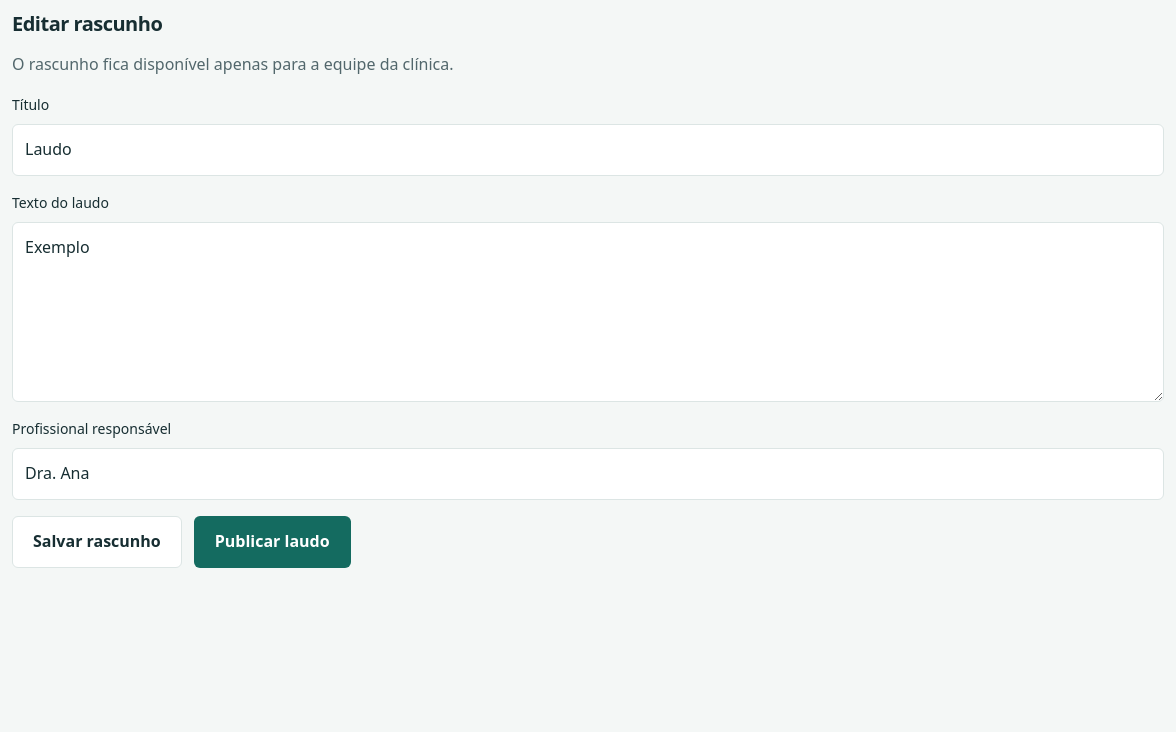
Test case: requires saving changes and confirmation before publishing
The width and height of the screenshot is (1176, 732).
Click the button "Publicar laudo" at (272, 542), box [194,516,351,568]
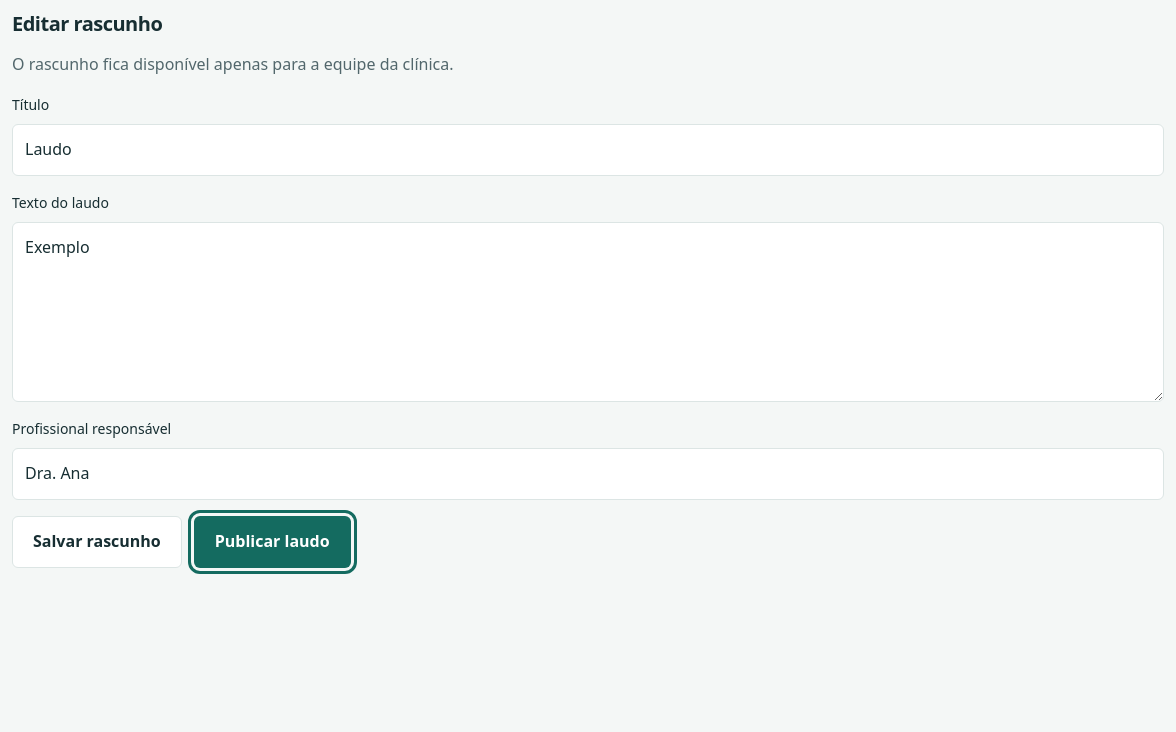
Type " alterado" into the field labelled "Título" at (588, 150), box [12,124,1164,176]
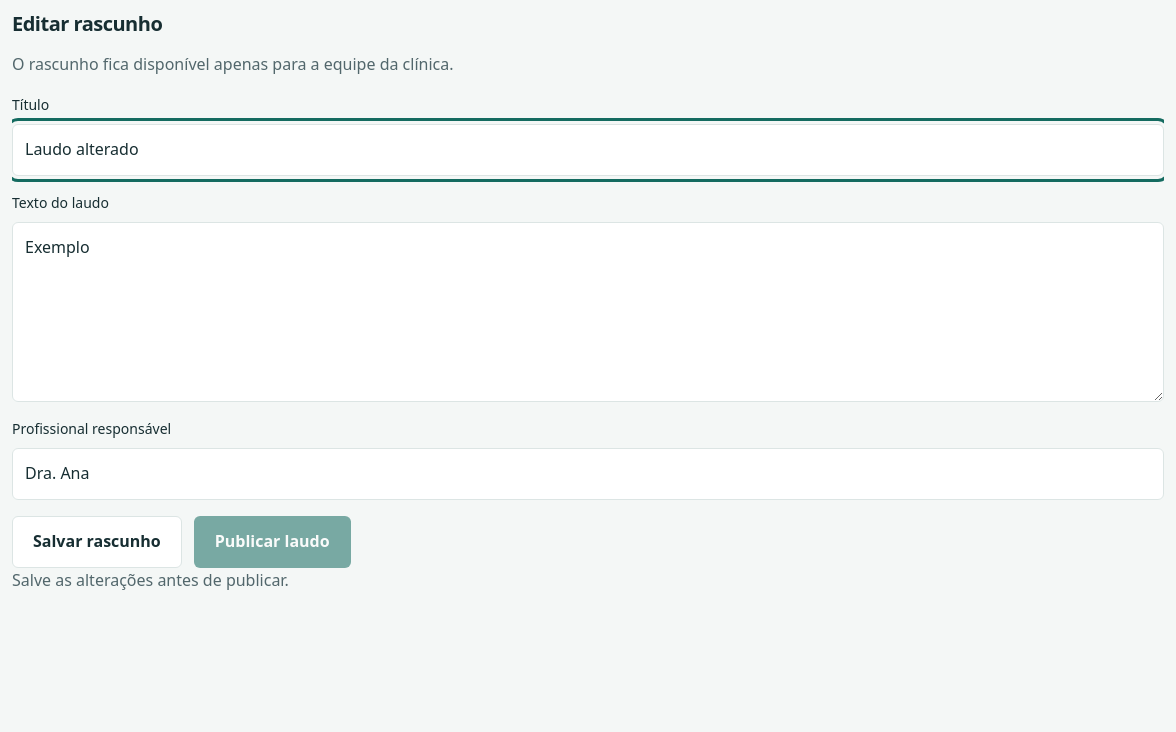
Now the button "Publicar laudo" is disabled, box [194,516,351,568]
Click the button "Salvar rascunho" at (97, 542), box [12,516,182,568]
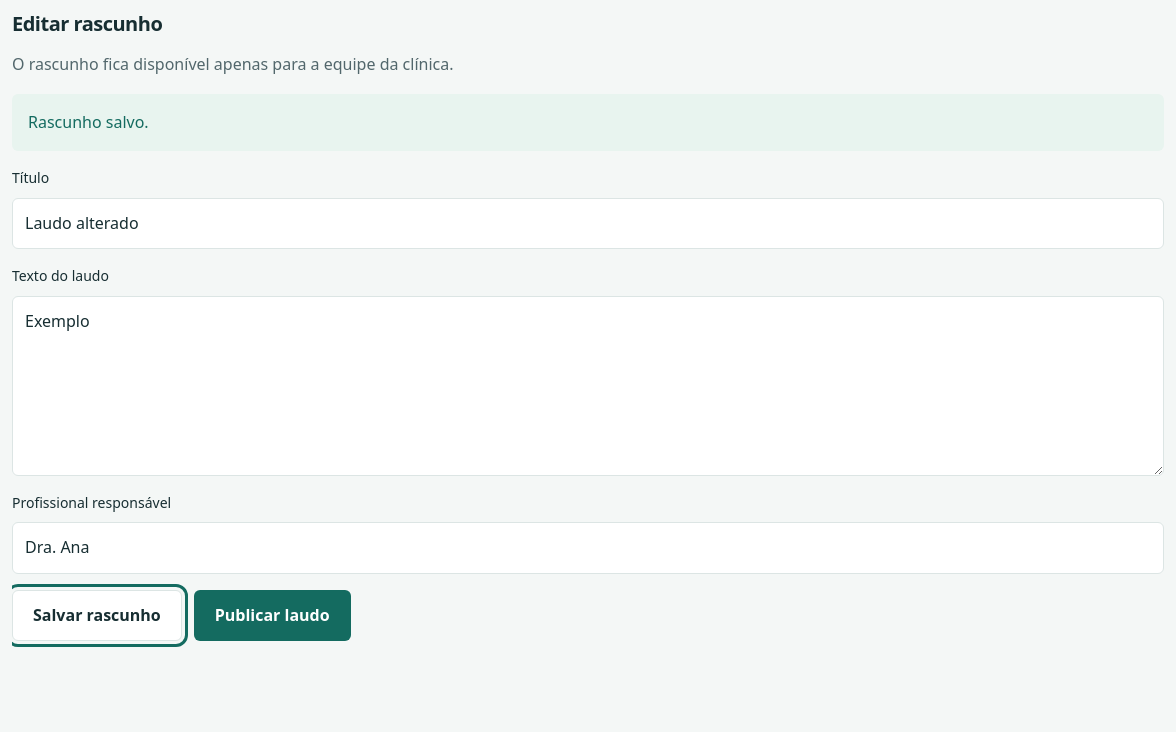
Now the text "Rascunho salvo." is shown, box [12,94,1164,151]
